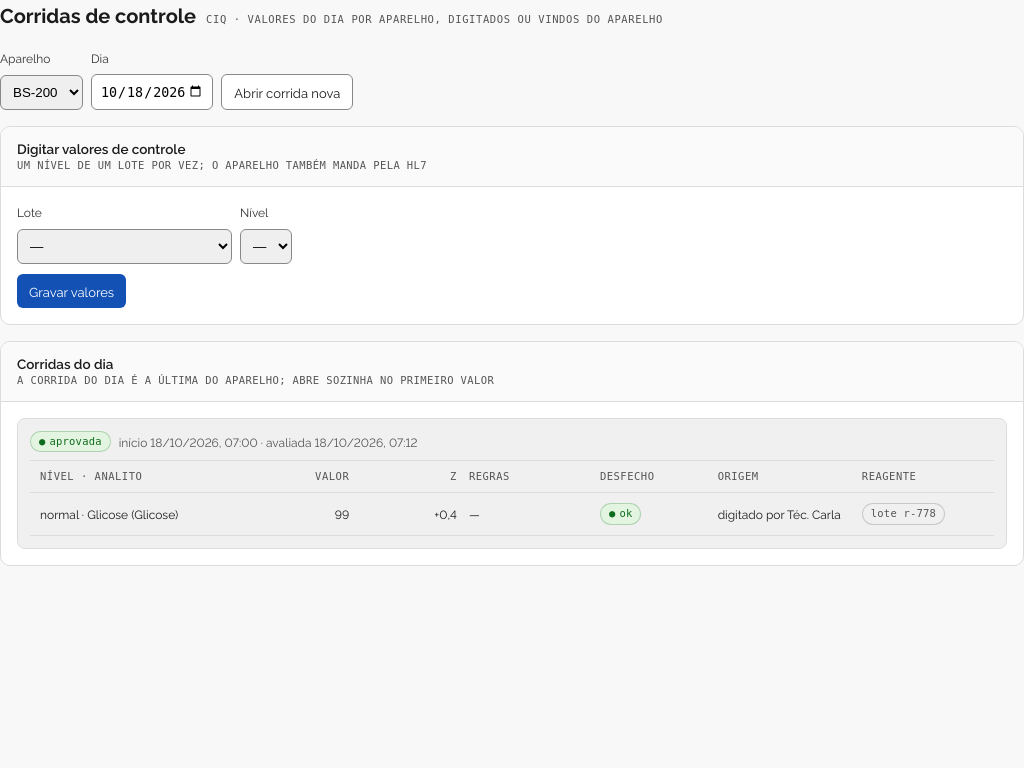
LabQcRuns › abrir corrida com 404: a frase diz que a tela foi atualizada e as corridas relêem
Select "L2026A · Controle bioquímico" in the dropdown labelled "Lote" at (124, 246), box [17,228,232,264]
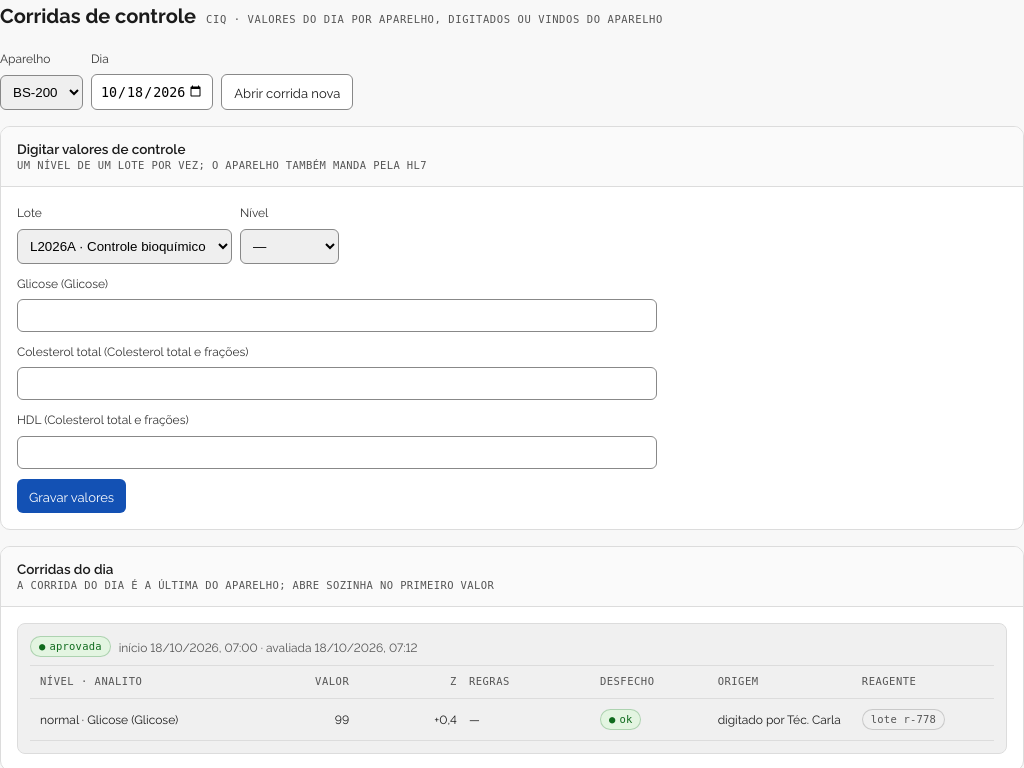
Select "normal" in the dropdown labelled "Nível" at (290, 246), box [240,228,339,264]
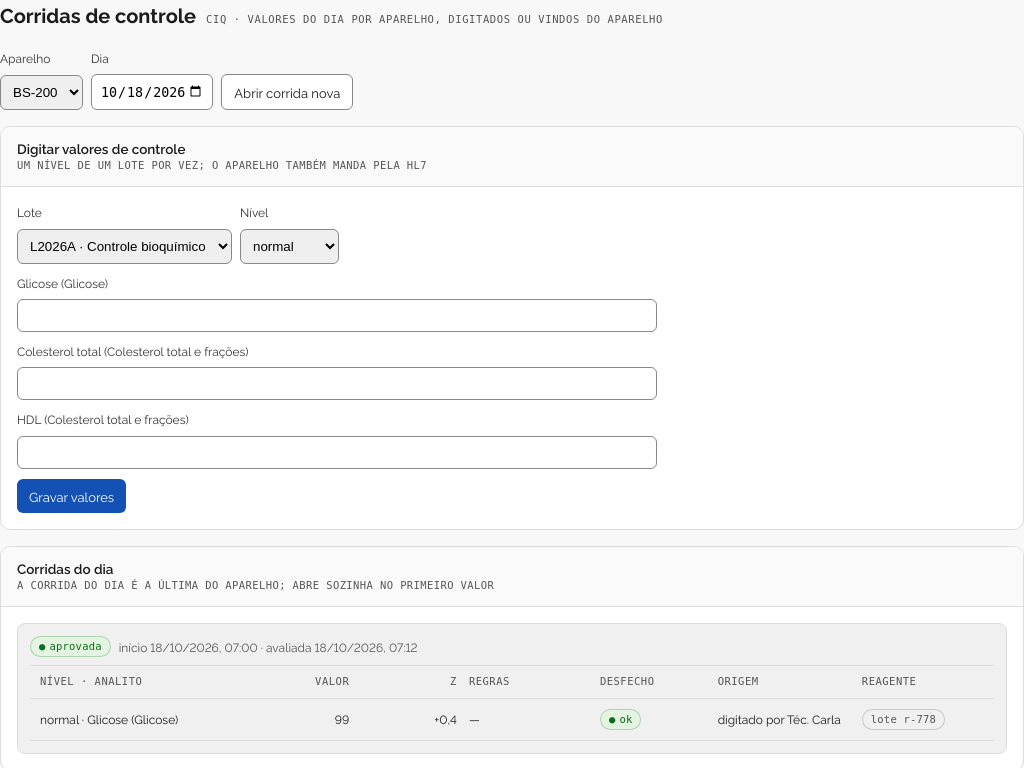
Click the button "Abrir corrida nova" at (287, 92), box [221,74,353,110]
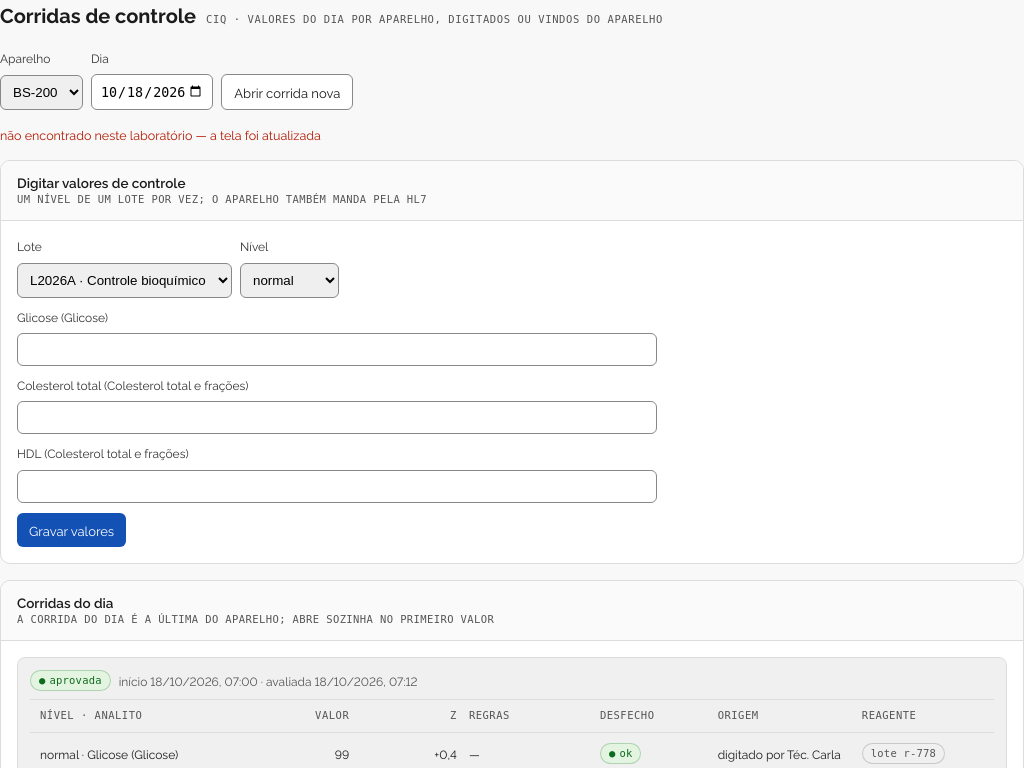
Expected: the text "não encontrado neste laboratório — a tela foi atualizada" is shown, [0,126,321,143]
